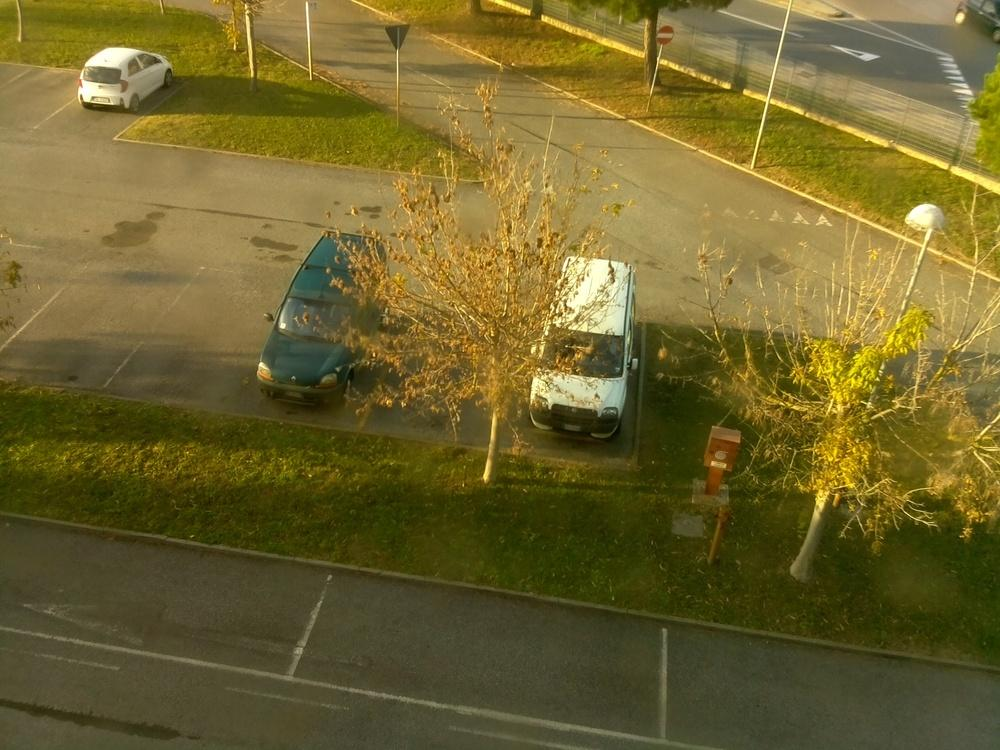empty: (74, 48, 176, 113)
occupied: (376, 599, 594, 699), (698, 633, 891, 740), (173, 274, 267, 412), (42, 263, 132, 387), (19, 62, 70, 119)
